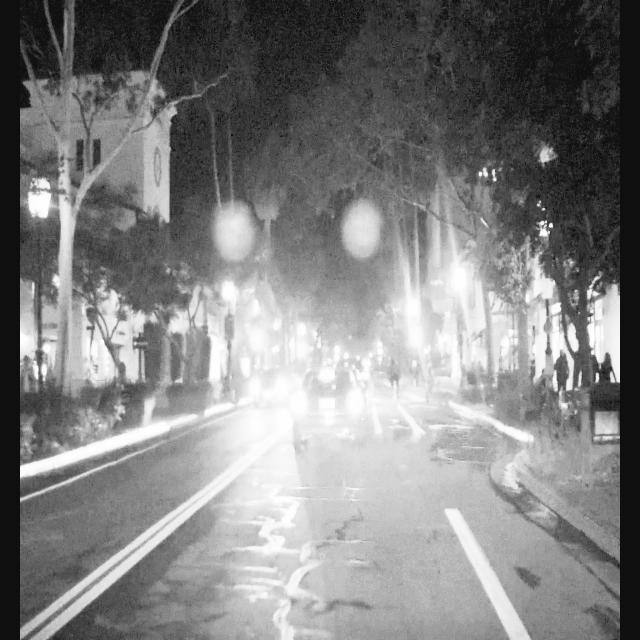Car: (290, 364, 369, 454)
Tree: (542, 0, 619, 497), (36, 0, 102, 459)
